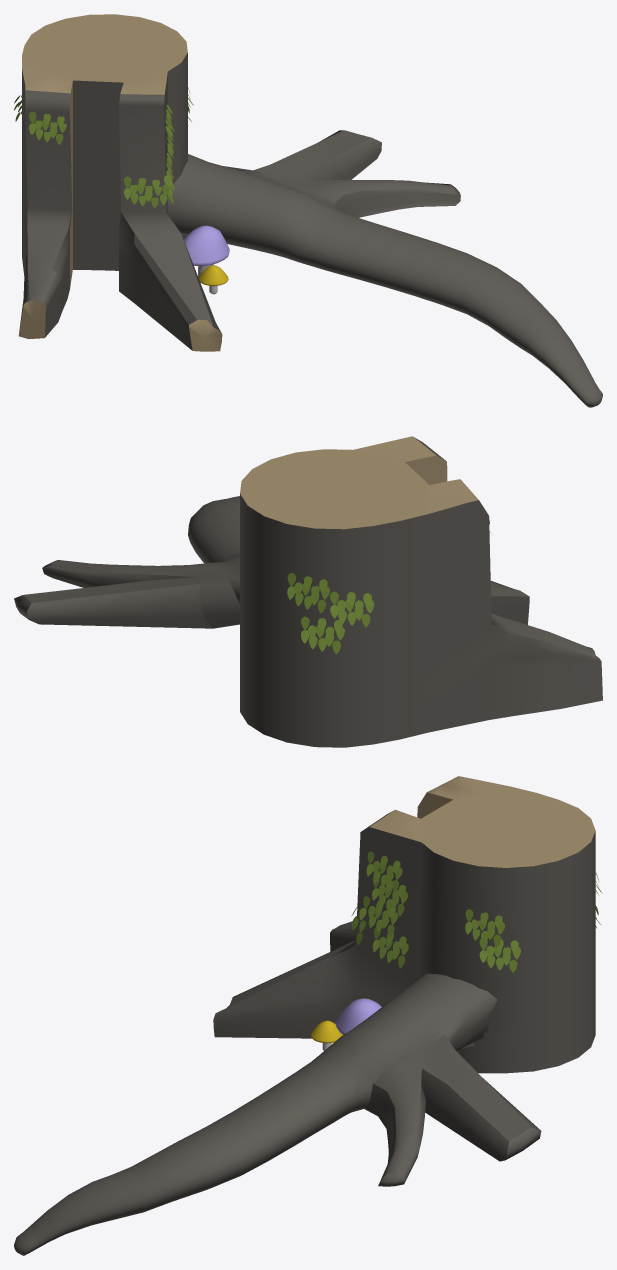
File: Big_Tree.fbx
3 renders of one model, top to bottom at view 1: azimuth 30°, elevation 25°; view 2: azimuth 150°, elevation 25°; view 3: azimuth 270°, elevation 25°, orthographic. The views are drawn at different scales.
Parts seen in each view (by area): view 1: treeeeee, big_shroom, lil_shroom; view 2: treeeeee; view 3: treeeeee, big_shroom.
Part boxes in pixels (left/top/right/bottom): treeeeee: left=18, top=14, right=602, bottom=407; big_shroom: left=184, top=225, right=229, bottom=277; lil_shroom: left=198, top=265, right=228, bottom=294; treeeeee: left=14, top=436, right=602, bottom=747; treeeeee: left=14, top=776, right=595, bottom=1255; big_shroom: left=335, top=998, right=381, bottom=1034.
Bounding box in the file's own units: 264 × 143 × 269.
